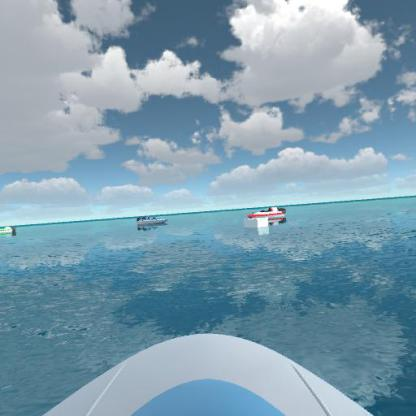usv0: (0, 221, 18, 240)
usv1: (134, 212, 170, 228)
usv3: (245, 204, 289, 225)
